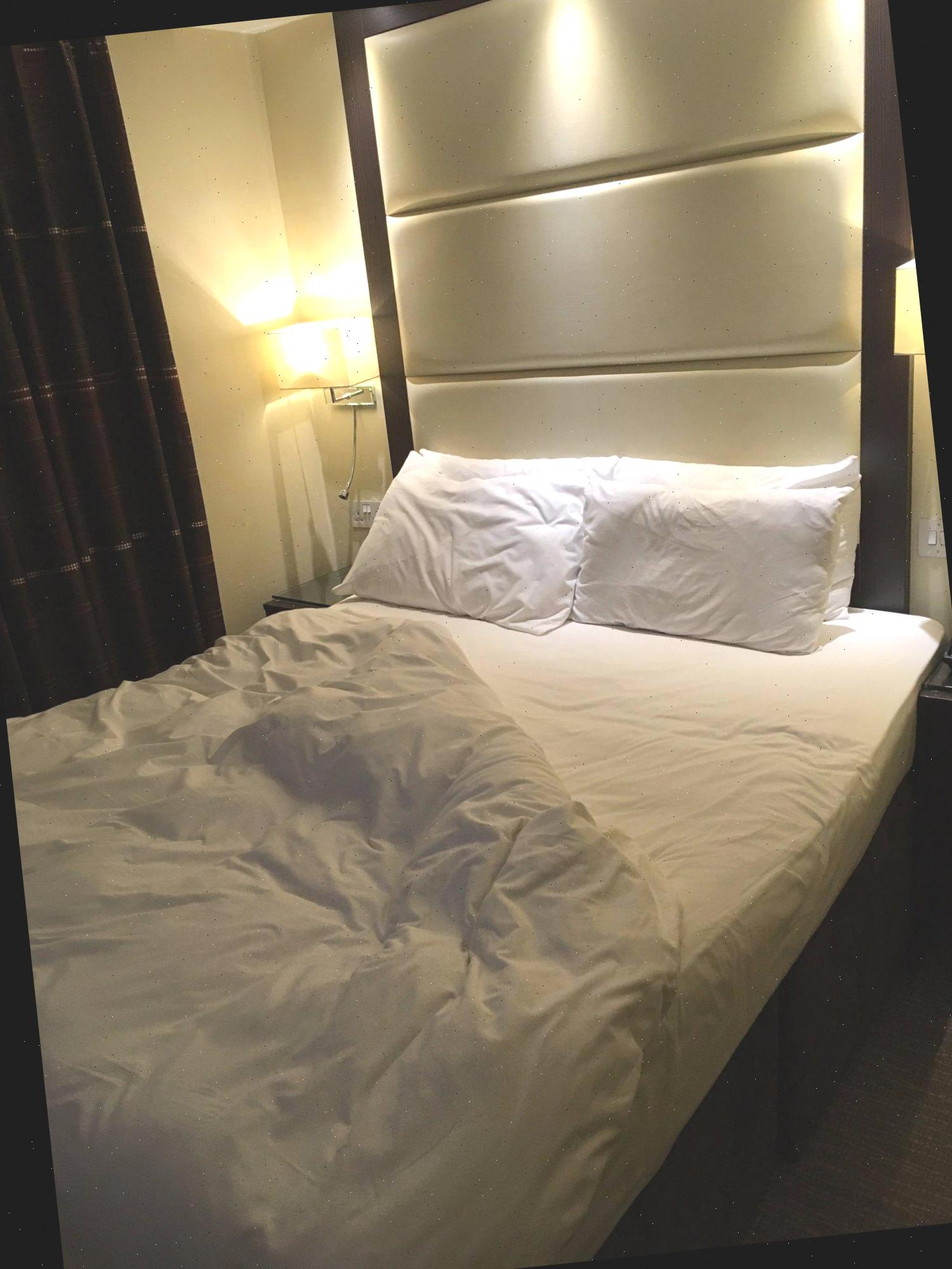lamp: (271, 313, 390, 457)
messy_bed: (7, 346, 945, 1269)
organised_pillow: (351, 451, 852, 654)
